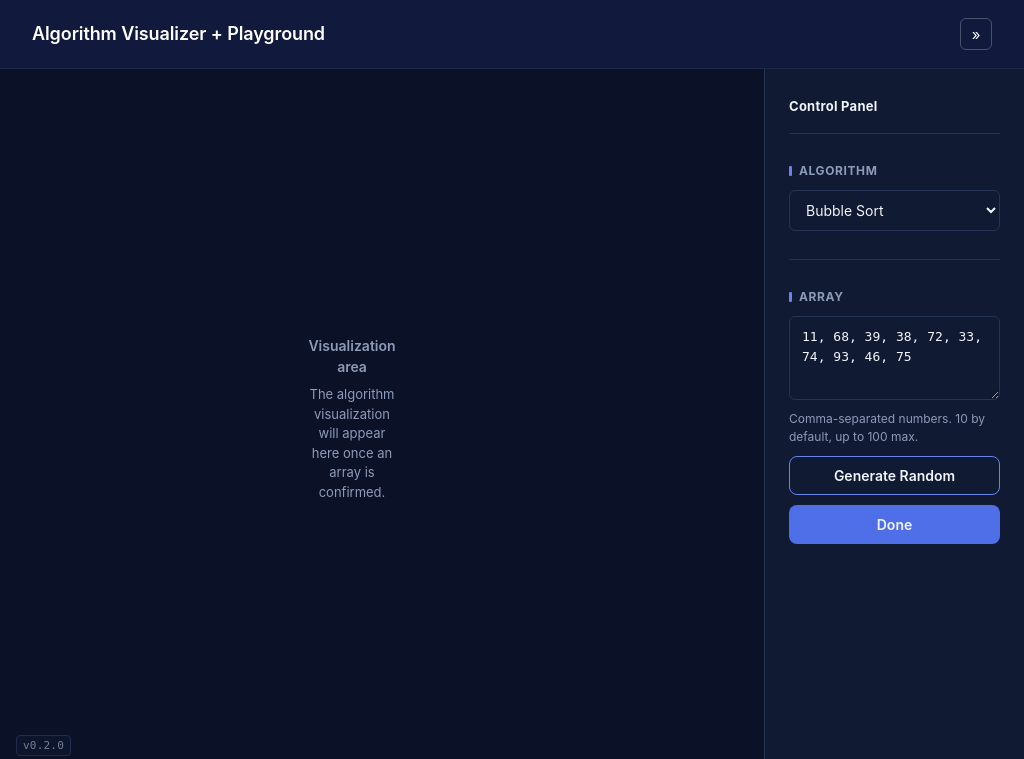
Test: App — Algorithm Selector: selecting Selection Sort › selecting Selection Sort and pressing Done creates a Selection Sort session with its own (different) step total
Select "Selection Sort" in the dropdown labelled "Algorithm" at coordinates (894, 210), box [789,190,1000,230]
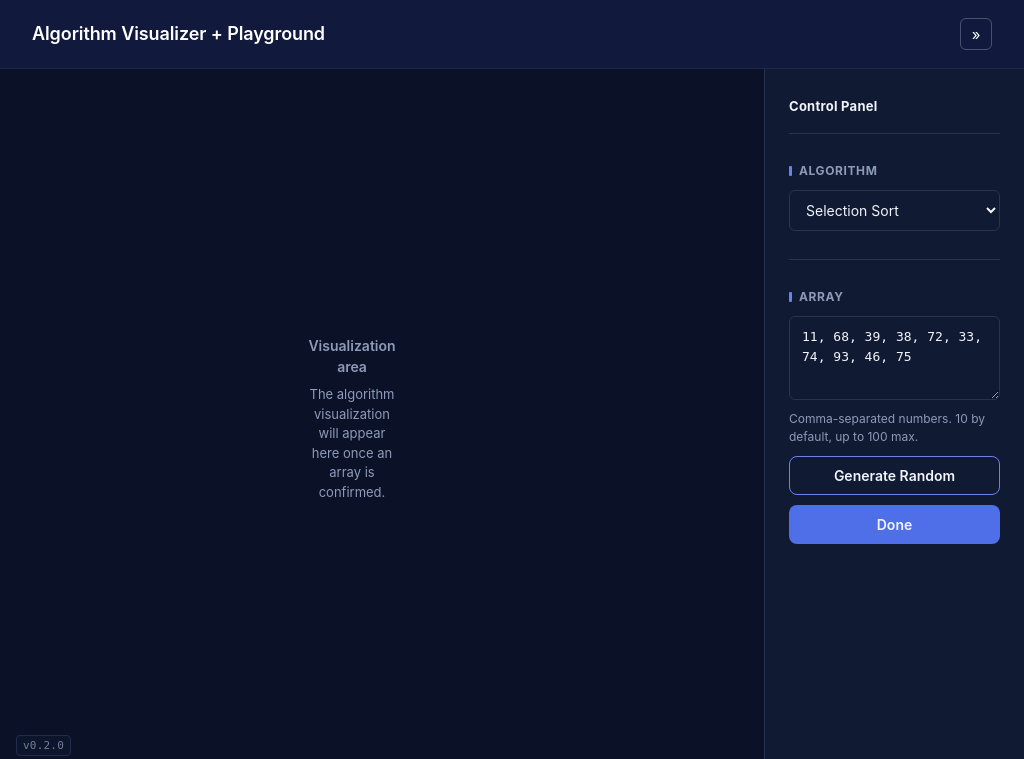
Replace the text in the text box labelled "Array" with "8, 3, 5, 1" at coordinates (894, 358), box [789,316,1000,400]
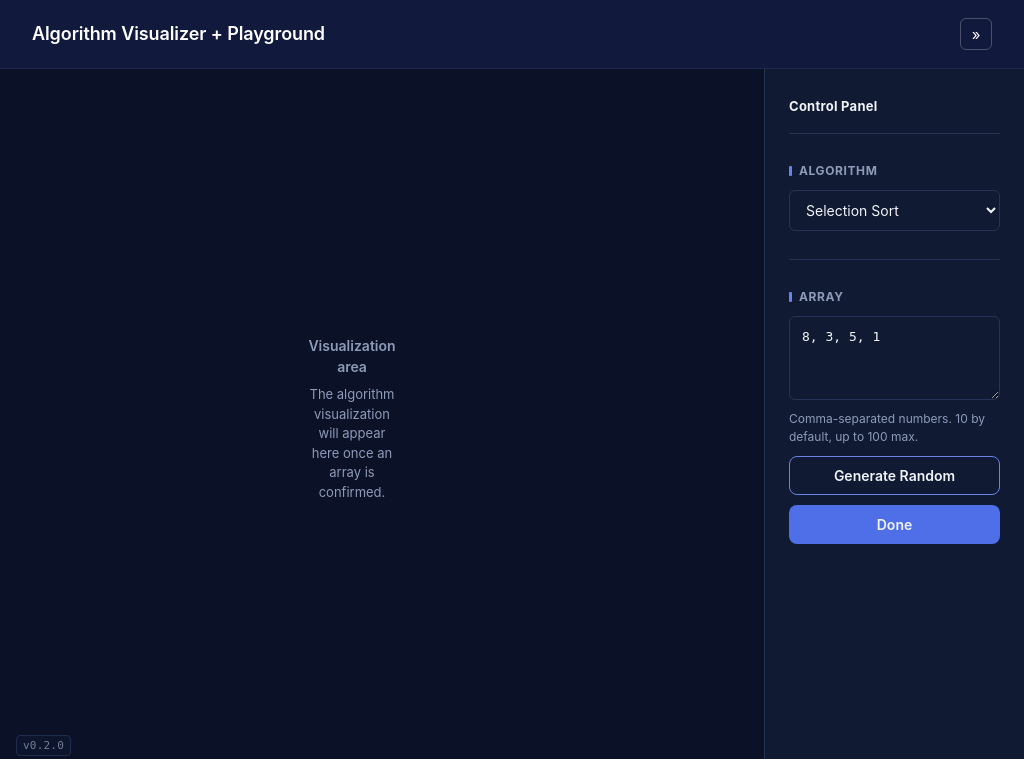
Click the button "Done".
click(894, 524)  # box [789,505,1000,544]
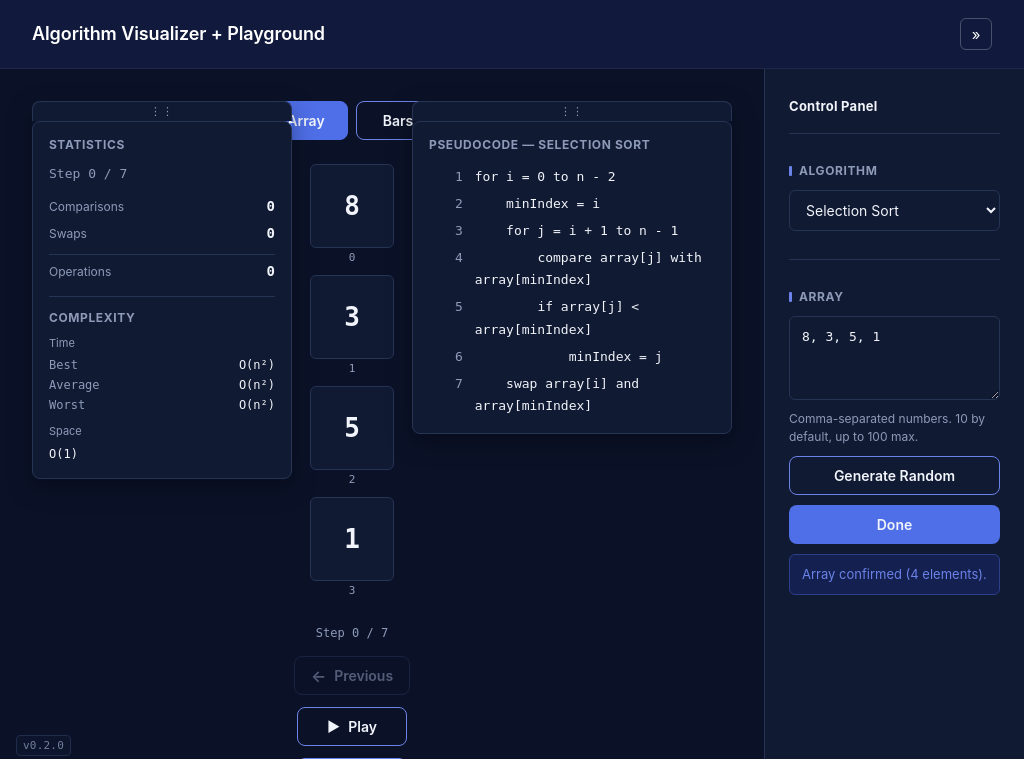
Result: the text "Step 0 / 7" below "Statistics" is shown at [49,166,127,181]
